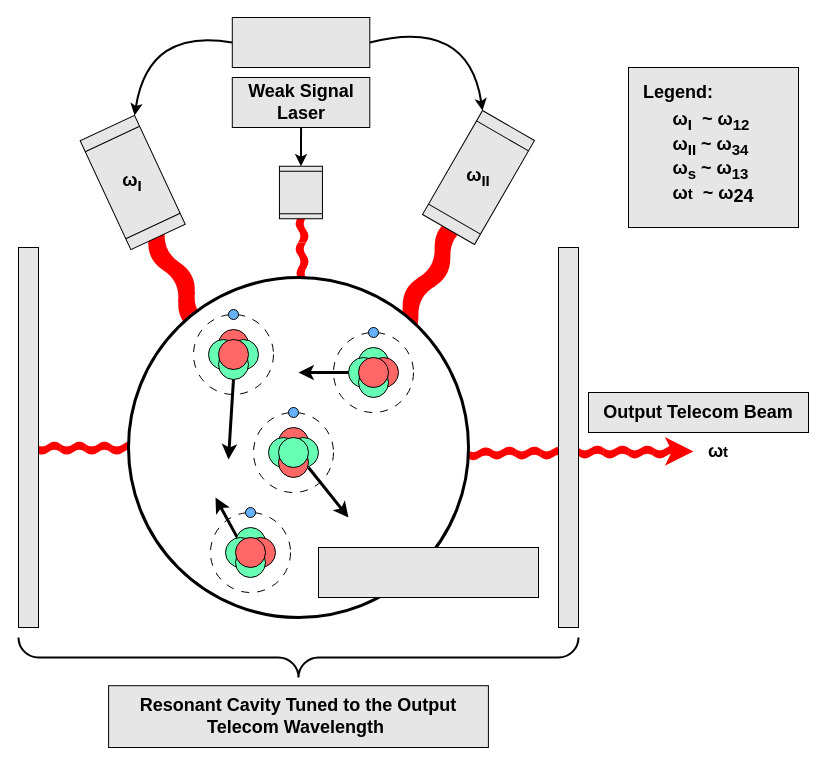
Some shapes in this 826 by 765 pixel diagram are drawn without their labels. Each missing label, with the centre of its shape:
Strong Pump Lasers: point 300,42
Vacuum Cell Containing Hot Rubidium Gas: point 428,572
ω s: point 300,192
